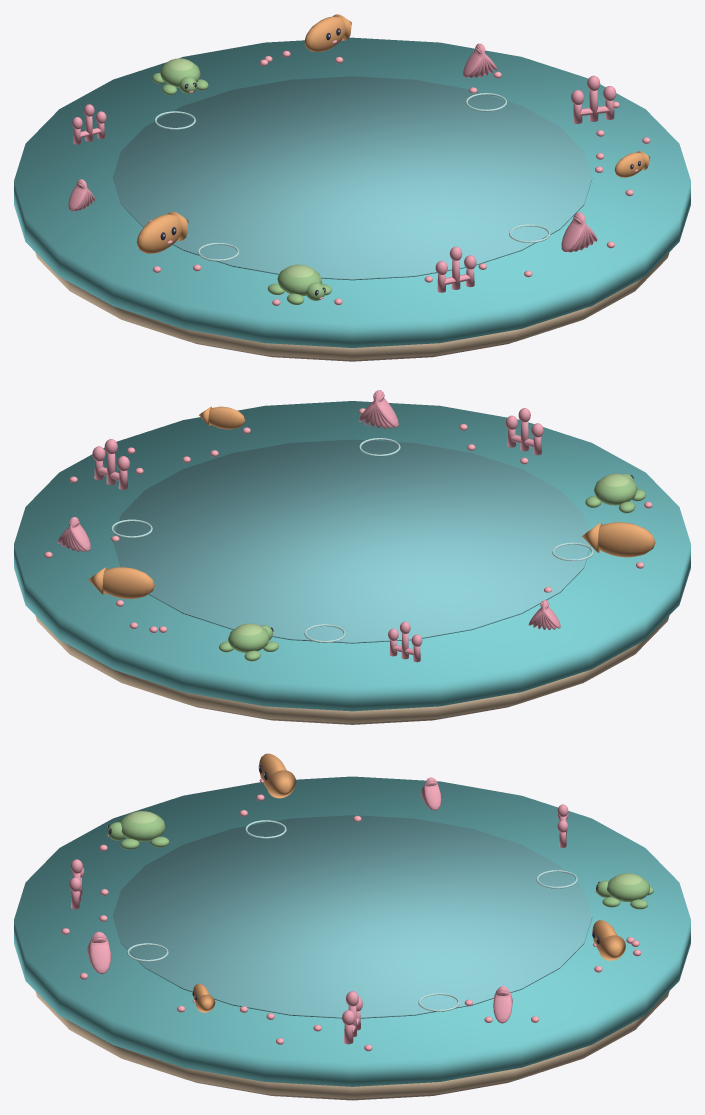
Rendered from world.glb.
3 views of the same model, one above another, from view 1: azimuth 30°, elevation 25°; view 2: azimuth 150°, elevation 25°; view 3: azimuth 270°, elevation 25° (orthographic).
Visible parts, largest first — view 1: Cone, Cone.003, Cone.001, turtle.002, fish.002, turtle.001, coral.001, fish.001, coral.003, shell.003, coral.002, shell.001 (+3 smaller); view 2: Cone, Cone.003, Cone.001, fish.002, fish.001, turtle.002, turtle.001, coral.001, coral.003, shell.003, coral.002, fish.003 (+3 smaller); view 3: Cone, Cone.003, Cone.001, turtle.002, turtle.001, fish.002, fish.001, coral.001, shell.003, Cone.002, shell.001, coral.003.
Part boxes in pixels (<box>): Cone: <box>14,37,690,347</box>; Cone.003: <box>112,76,592,280</box>; Cone.001: <box>35,252,669,360</box>; turtle.002: <box>267,264,331,304</box>; fish.002: <box>136,212,188,253</box>; turtle.001: <box>152,58,208,95</box>; coral.001: <box>571,75,616,123</box>; fish.001: <box>304,14,351,51</box>; coral.003: <box>435,246,476,292</box>; shell.003: <box>561,212,597,252</box>; coral.002: <box>72,104,106,144</box>; shell.001: <box>463,43,496,77</box>; Cone: <box>14,401,690,711</box>; Cone.003: <box>112,439,590,643</box>; Cone.001: <box>35,615,669,723</box>; fish.002: <box>582,522,655,557</box>; fish.001: <box>88,567,154,598</box>; turtle.002: <box>585,473,645,513</box>; turtle.001: <box>219,623,278,661</box>; coral.001: <box>92,439,129,489</box>; coral.003: <box>505,408,543,455</box>; shell.003: <box>359,390,398,428</box>; coral.002: <box>388,621,422,662</box>; fish.003: <box>199,406,245,429</box>; Cone: <box>14,776,690,1086</box>; Cone.003: <box>112,815,592,1018</box>; Cone.001: <box>35,991,669,1098</box>; turtle.002: <box>107,811,169,849</box>; turtle.001: <box>595,873,653,909</box>; fish.002: <box>258,753,296,798</box>; fish.001: <box>592,920,625,960</box>; coral.001: <box>342,991,362,1044</box>; shell.003: <box>87,931,110,974</box>; Cone.002: <box>191,1081,513,1100</box>; shell.001: <box>493,986,512,1023</box>; coral.003: <box>69,859,84,909</box>.
Size of the model in its own units: 9.6 by 1.53 by 9.6.
